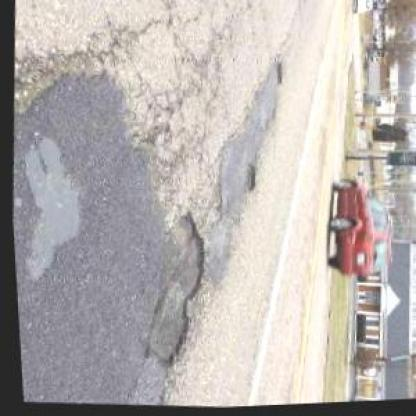pothole: (129, 208, 209, 376), (238, 164, 257, 194), (272, 61, 286, 89)
